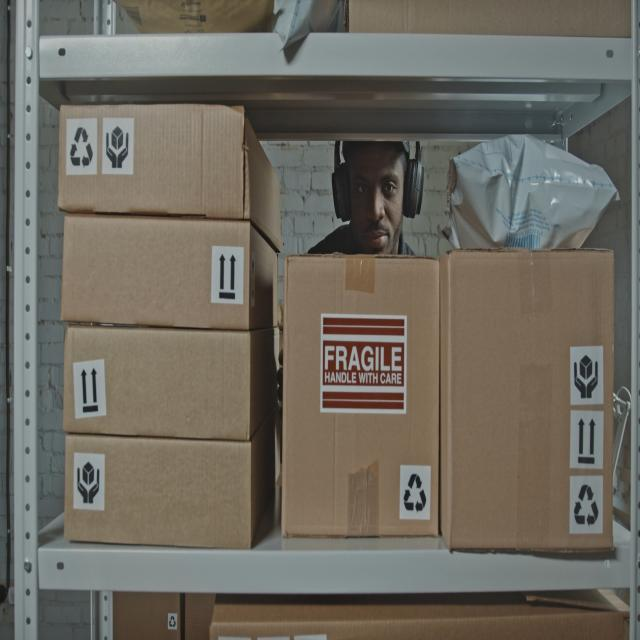counting-the-number-of-boxes: (441, 250, 614, 550), (281, 256, 439, 537), (64, 399, 279, 549), (59, 104, 280, 249), (63, 324, 278, 441), (62, 214, 278, 330)
